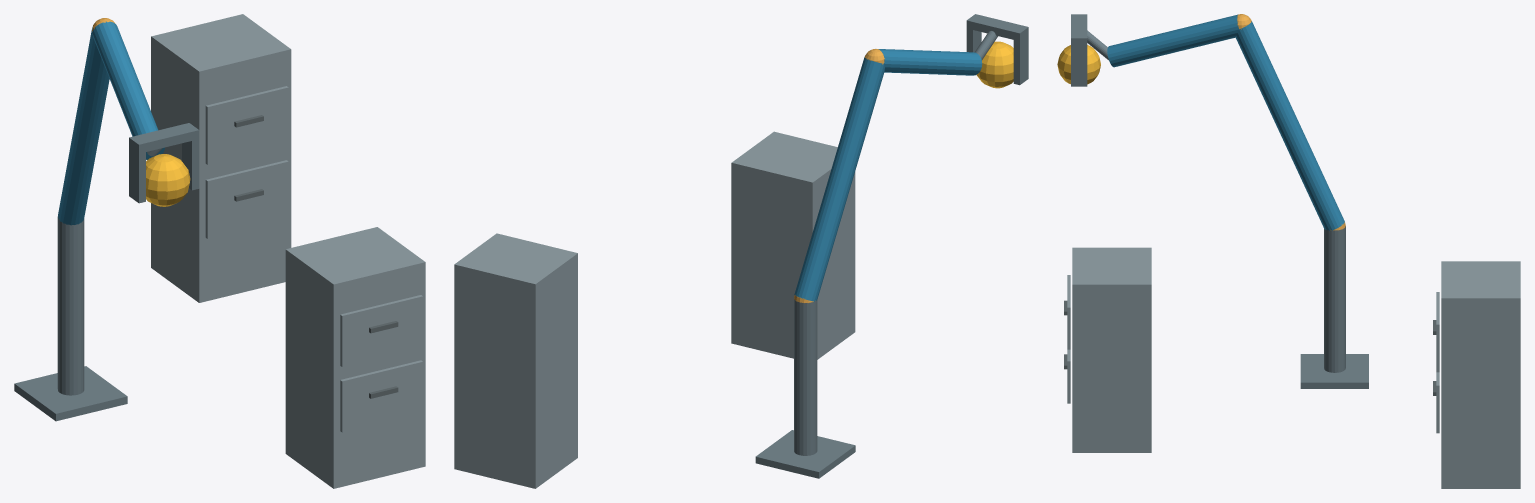
The picture shows the model from 3 angles, left to right: view 1: azimuth 30°, elevation 25°; view 2: azimuth 150°, elevation 25°; view 3: azimuth 270°, elevation 25°; orthographic projection. The views are drawn at different scales.
Visible parts, largest first — view 1: cabinet_1 body, cabinet_2 body, cabinet_2 drawer front, cabinet_2 drawer front.001, fixed post, moving link 1, cabinet_1 drawer front, cabinet_1 drawer front.001, moving link 2, pedestal, ball ball_1, gripper bridge (+2 smaller); view 2: cabinet_2 body, cabinet_1 body, moving link 1, fixed post, pedestal, moving link 2, ball ball_1, gripper bridge, gripper finger -1; view 3: cabinet_2 body, cabinet_1 body, moving link 1, fixed post, moving link 2, pedestal, ball ball_1, gripper finger 1, gripper bridge.
Boxes of the visible parts, x1=… form: cabinet_1 body: x1=285, y1=227, x2=425, y2=488; cabinet_2 body: x1=151, y1=14, x2=291, y2=302; cabinet_2 drawer front: x1=205, y1=160, x2=288, y2=238; cabinet_2 drawer front.001: x1=205, y1=86, x2=288, y2=164; fixed post: x1=57, y1=216, x2=84, y2=395; moving link 1: x1=58, y1=27, x2=109, y2=225; cabinet_1 drawer front: x1=340, y1=360, x2=422, y2=432; cabinet_1 drawer front.001: x1=340, y1=295, x2=422, y2=366; moving link 2: x1=92, y1=21, x2=164, y2=159; pedestal: x1=14, y1=366, x2=127, y2=421; ball ball_1: x1=146, y1=154, x2=190, y2=206; gripper bridge: x1=129, y1=123, x2=199, y2=153; cabinet_2 body: x1=454, y1=233, x2=577, y2=488; cabinet_1 body: x1=731, y1=131, x2=855, y2=359; moving link 1: x1=794, y1=57, x2=884, y2=301; fixed post: x1=794, y1=299, x2=817, y2=455; pedestal: x1=755, y1=430, x2=855, y2=478; moving link 2: x1=878, y1=49, x2=982, y2=75; ball ball_1: x1=976, y1=41, x2=1013, y2=88; gripper bridge: x1=966, y1=14, x2=1028, y2=41; gripper finger -1: x1=1013, y1=35, x2=1028, y2=85; cabinet_2 body: x1=1441, y1=261, x2=1520, y2=488; cabinet_1 body: x1=1072, y1=247, x2=1151, y2=452; moving link 1: x1=1235, y1=21, x2=1344, y2=230; fixed post: x1=1324, y1=226, x2=1345, y2=372; moving link 2: x1=1107, y1=14, x2=1239, y2=67; pedestal: x1=1300, y1=354, x2=1368, y2=388; ball ball_1: x1=1057, y1=45, x2=1100, y2=84; gripper finger 1: x1=1071, y1=46, x2=1087, y2=86; gripper bridge: x1=1071, y1=14, x2=1087, y2=45.
Bounding box in the file's own units: 1.31 × 1.41 × 1.69.
